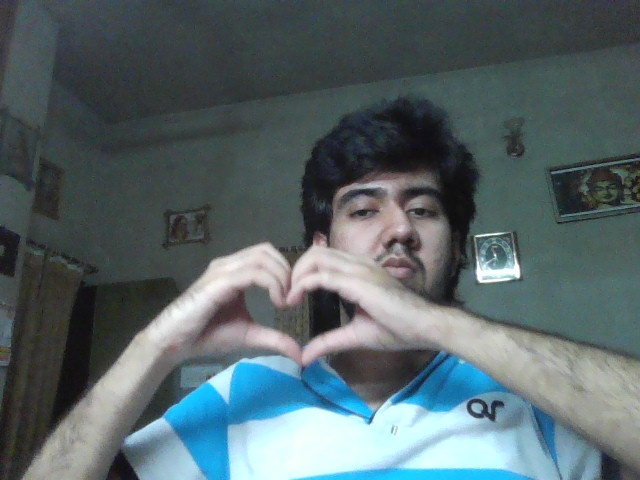Love: (174, 242, 412, 366)
